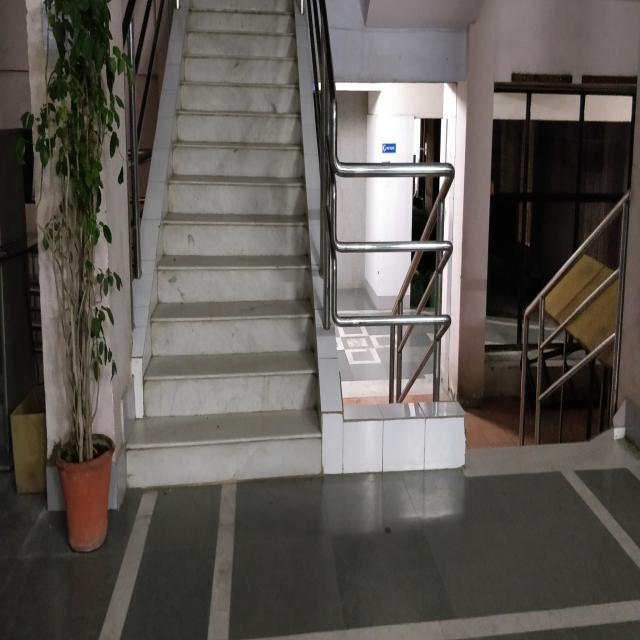stairs: (125, 1, 324, 487)
